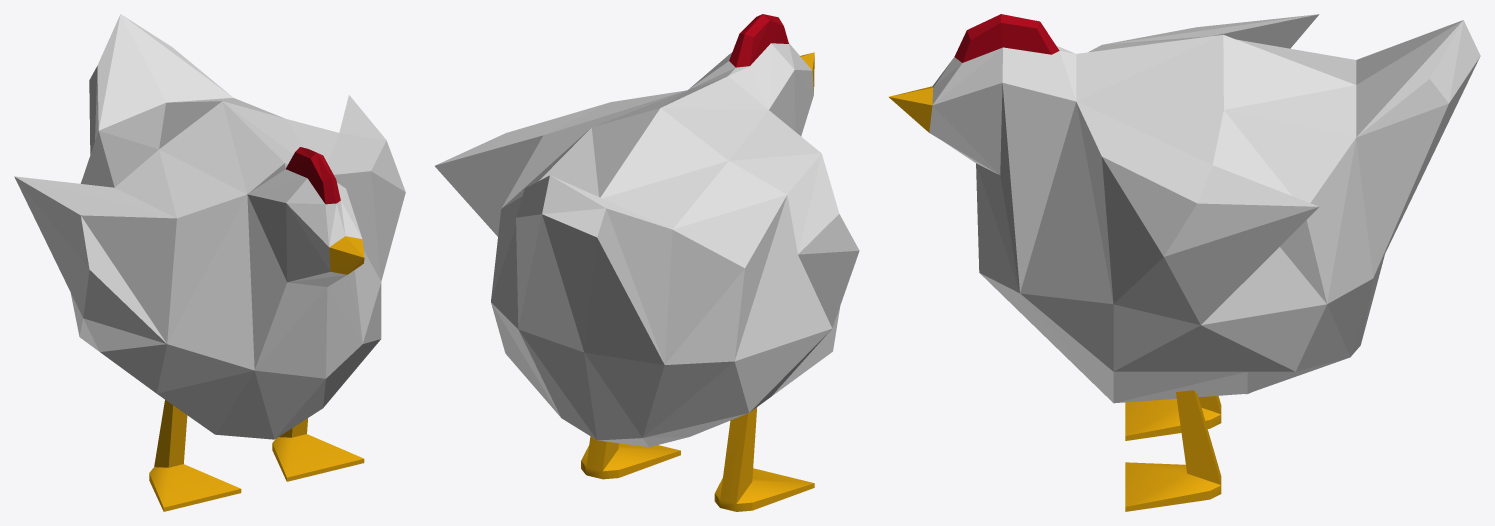
File: chikin.fbx
3 renders of one model, left to right at view 1: azimuth 30°, elevation 25°; view 2: azimuth 150°, elevation 25°; view 3: azimuth 270°, elevation 25°, orthographic. The views are drawn at different scales.
Parts seen in each view (by area): view 1: pCube1, pCube5, pCube4; view 2: pCube1, pCube5, pCube4; view 3: pCube1, pCube4, pCube5.
Boxes of the visible parts, <box> form: pCube1: <box>14,14,405,439</box>; pCube5: <box>149,400,241,511</box>; pCube4: <box>272,418,364,481</box>; pCube1: <box>435,14,859,447</box>; pCube5: <box>714,407,814,511</box>; pCube4: <box>581,436,680,479</box>; pCube1: <box>889,14,1480,403</box>; pCube4: <box>1125,390,1221,511</box>; pCube5: <box>1125,396,1221,440</box>.
Size of the model in its own units: 54.11 by 57.66 by 70.31.
